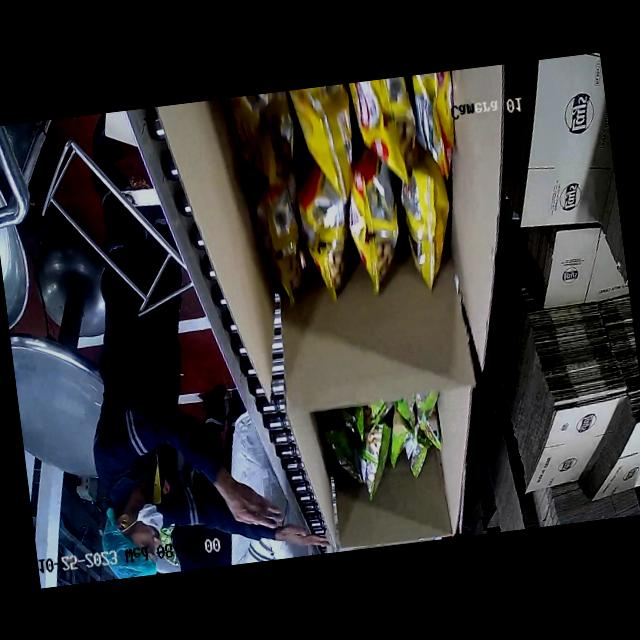salted: (221, 70, 477, 315)
yogurt: (319, 396, 452, 486)
